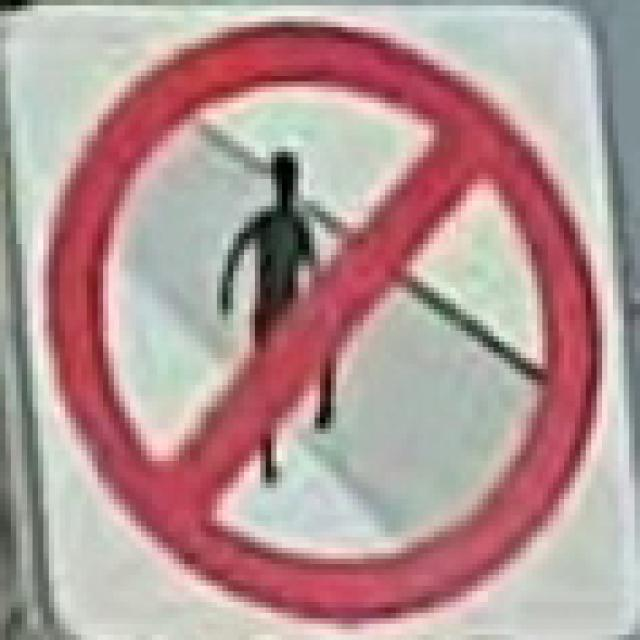nojaywalking_sign: (0, 0, 629, 635), (206, 141, 353, 488)
